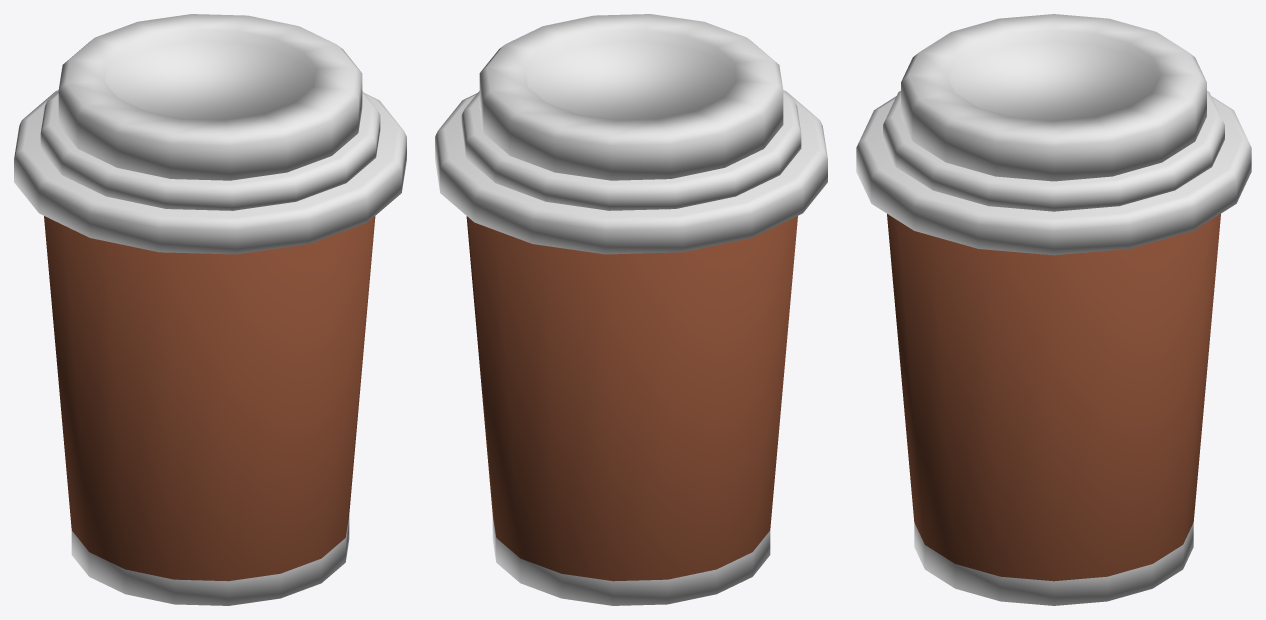
File: coffee_cup.glb
The picture shows the model from 3 angles, left to right: view 1: azimuth 30°, elevation 25°; view 2: azimuth 150°, elevation 25°; view 3: azimuth 270°, elevation 25°; orthographic projection.
Parts seen in each view (by area): view 1: Cylinder; view 2: Cylinder; view 3: Cylinder.
Part boxes in pixels (left/top/right/bottom): Cylinder: left=14, top=14, right=406, bottom=605; Cylinder: left=435, top=14, right=827, bottom=605; Cylinder: left=856, top=14, right=1251, bottom=605.
Bounding box in the file's own units: 2.83 × 3.72 × 2.83.
2 materials, 2 textured.
